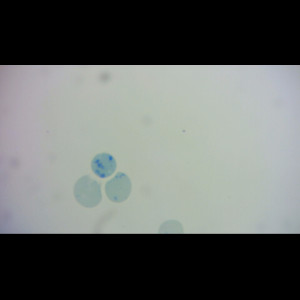aggregate reticulocyte: (90, 152, 117, 179)
erythrocyte: (72, 175, 104, 208)
punctate reticulocyte: (103, 171, 133, 204)
